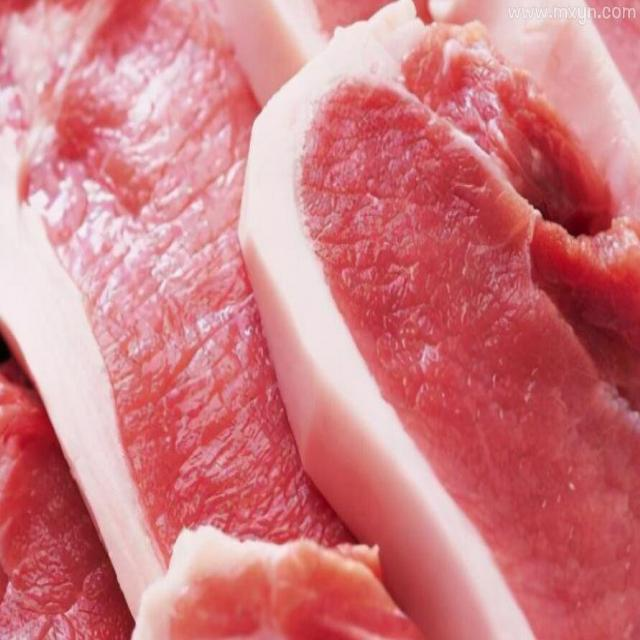Pork: (306, 25, 633, 617)
